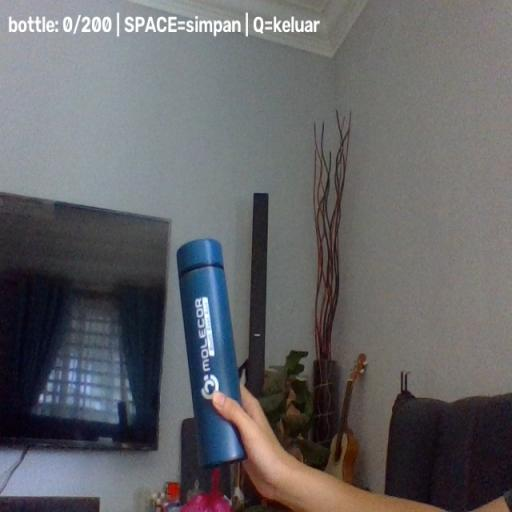Bottle: (175, 238, 247, 468)
